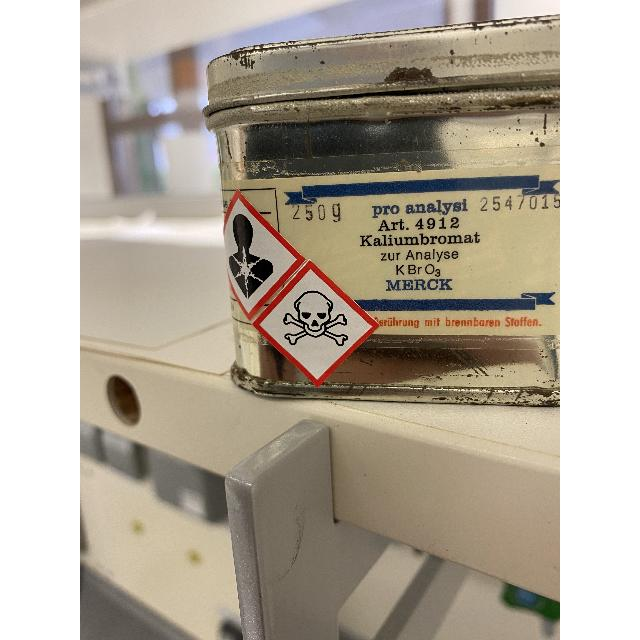acute toxicity: (282, 291, 348, 347)
serious health hazard: (228, 214, 274, 298)
